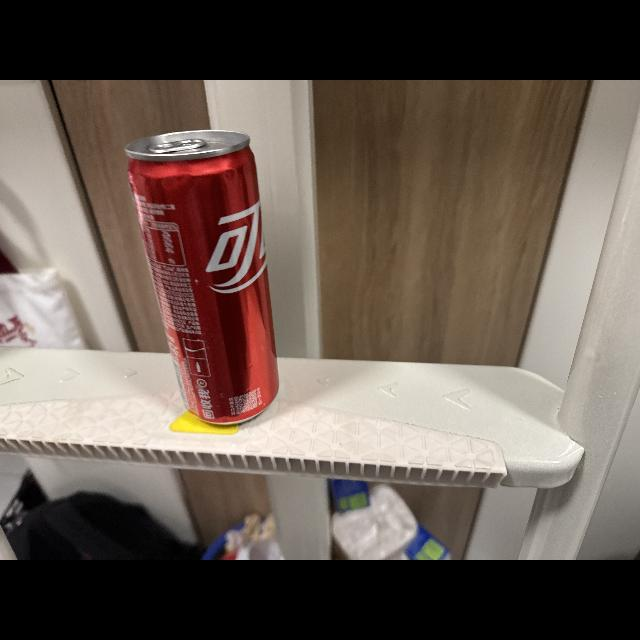Cola: (116, 124, 292, 430)
